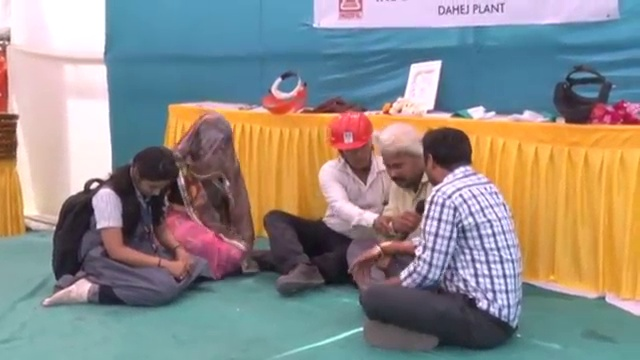helmet: (327, 110, 379, 151)
helmet_off: (176, 118, 238, 186), (419, 127, 477, 193), (373, 124, 425, 196), (121, 149, 183, 205)
helmet_on: (327, 113, 379, 180)
person: (364, 126, 523, 348), (44, 149, 199, 311), (255, 111, 394, 289), (160, 115, 254, 280), (348, 118, 433, 287)
